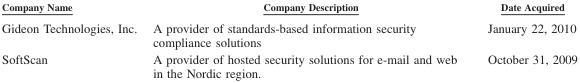table: (1, 0, 576, 79)
table column: (144, 0, 471, 79), (1, 0, 144, 79), (471, 0, 576, 79)
table column header: (1, 0, 576, 16)
table row: (1, 16, 576, 50), (1, 50, 576, 79), (1, 0, 576, 16)
